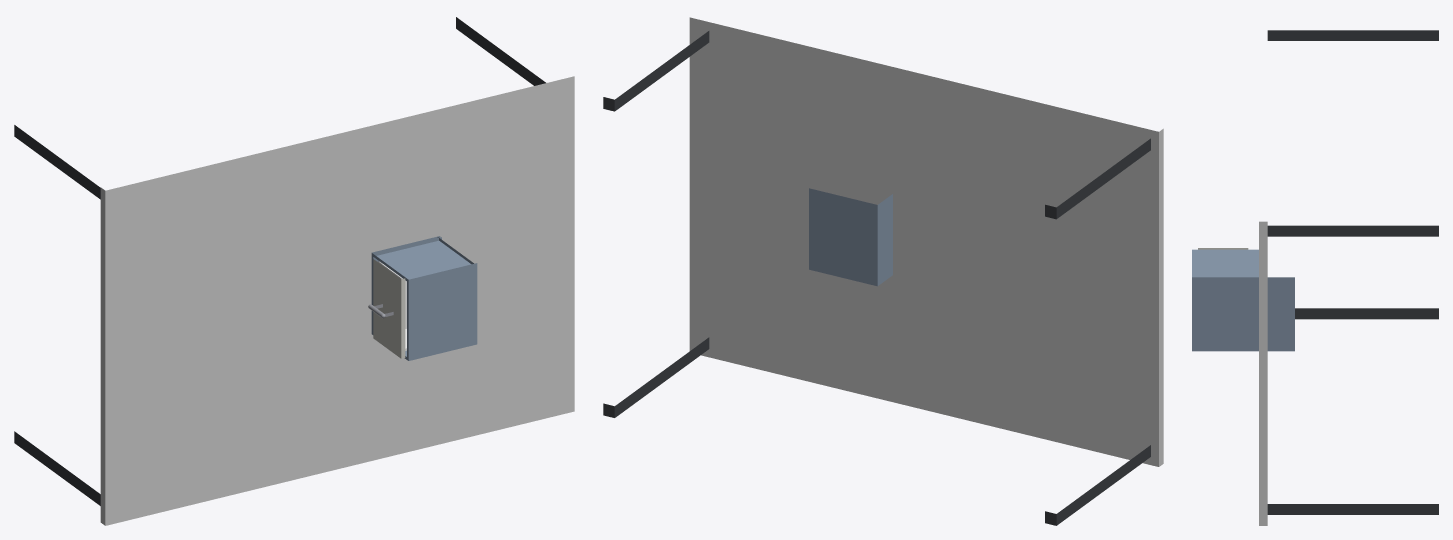
Rendered from t2_ec8bfcbf4e.glb.
3 renders of one model, left to right at view 1: azimuth 30°, elevation 25°; view 2: azimuth 150°, elevation 25°; view 3: azimuth 270°, elevation 25°, orthographic. The views are drawn at different scales.
Parts seen in each view (by area): view 1: s0, s1, s2; view 2: s0, s1; view 3: s0, s1.
Boxes of the visible parts, box(x1,y1,x2,y2) form: s0: box(14, 17, 574, 525); s1: box(371, 236, 477, 360); s2: box(368, 259, 406, 358); s0: box(603, 17, 1163, 525); s1: box(809, 188, 892, 286); s0: box(1259, 30, 1438, 525); s1: box(1192, 249, 1294, 351).
Size of the model in its own units: 2.05 by 1.4 by 1.03.
